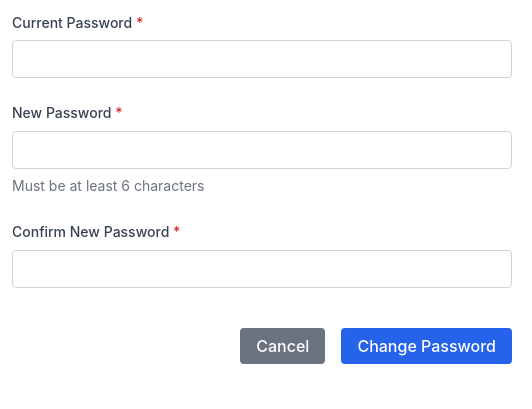
Test case: PasswordChangeForm - Real-time Validation › should display validation error when current password loses focus with empty value
The image size is (532, 409).
// Focus and blur without entering value
Click the password field labelled "Current Password" at (262, 59), box [12, 40, 512, 78]
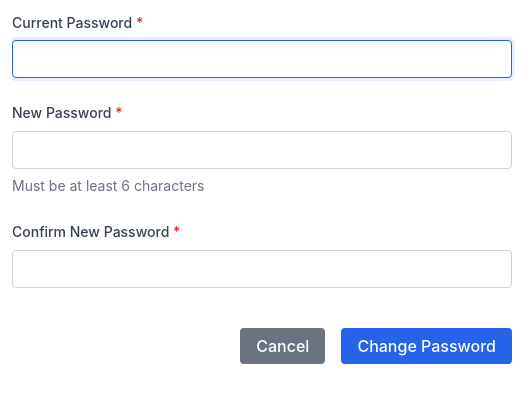
Press Tab
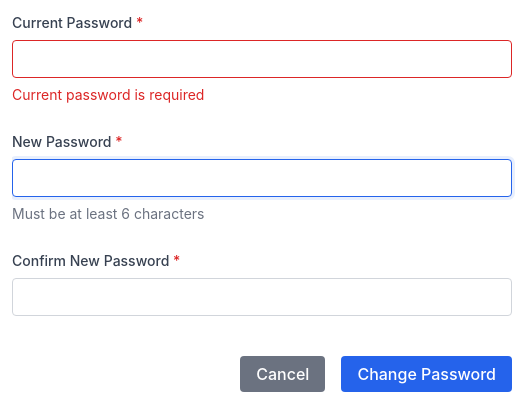
Now the text "Current password is required" is shown, box [12, 86, 204, 103]
